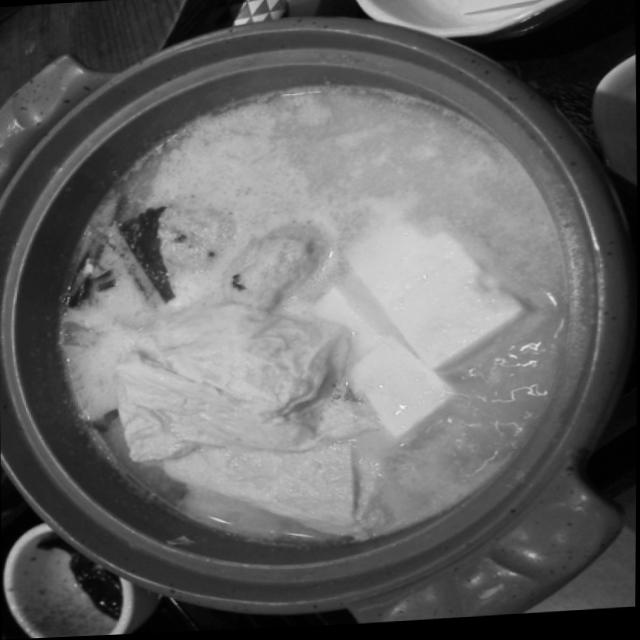豆腐料理: (2, 43, 604, 621)
